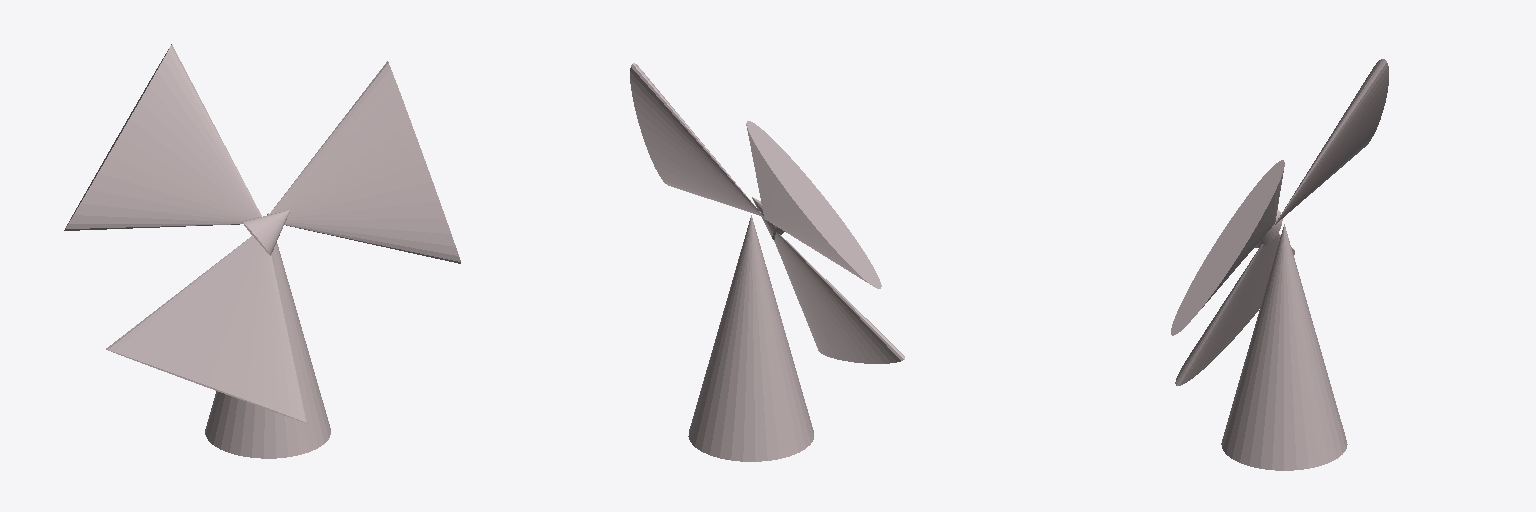
File: fan.obj
The picture shows the model from 3 angles: view 1: azimuth 30°, elevation 25°; view 2: azimuth 150°, elevation 25°; view 3: azimuth 270°, elevation 25°; orthographic projection.
Visible parts, largest first — view 1: blade3_Cone.002, blade1_Cone.002, blade2_Cone.002, Cone_Cone.002, Sphere_Cone.002; view 2: Cone_Cone.002, blade3_Cone.002, blade1_Cone.002, blade2_Cone.002; view 3: Cone_Cone.002, blade1_Cone.002, blade3_Cone.002, blade2_Cone.002.
Part boxes in pixels (bbox=[...]): blade3_Cone.002: bbox=[64, 44, 261, 230]; blade1_Cone.002: bbox=[269, 61, 460, 263]; blade2_Cone.002: bbox=[106, 235, 307, 423]; Cone_Cone.002: bbox=[205, 213, 330, 458]; Sphere_Cone.002: bbox=[242, 210, 289, 255]; Cone_Cone.002: bbox=[688, 215, 813, 461]; blade3_Cone.002: bbox=[746, 121, 881, 288]; blade1_Cone.002: bbox=[630, 63, 763, 216]; blade2_Cone.002: bbox=[774, 232, 904, 363]; Cone_Cone.002: bbox=[1221, 224, 1347, 470]; blade1_Cone.002: bbox=[1171, 160, 1284, 335]; blade3_Cone.002: bbox=[1275, 59, 1388, 224]; blade2_Cone.002: bbox=[1175, 233, 1294, 385].
Bounding box in the file's own units: 0.781 × 0.8865 × 0.4842.